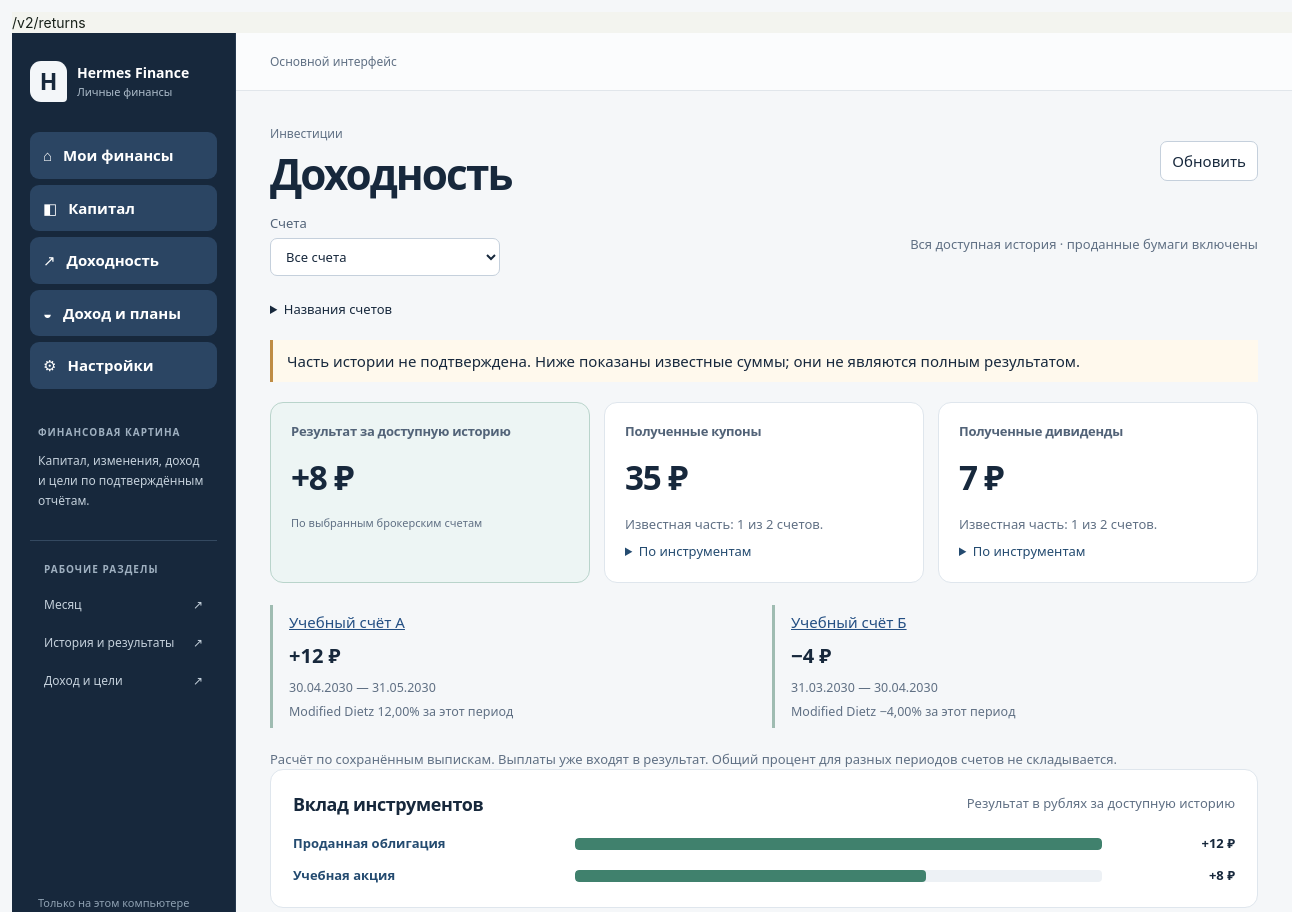
Test: refresh hides previous financial values and error never retains stale totals
Expected: the element "Результат" is shown, [270,402,590,583]
Click the button "Обновить": (1209, 161) [1160,140,1258,181]
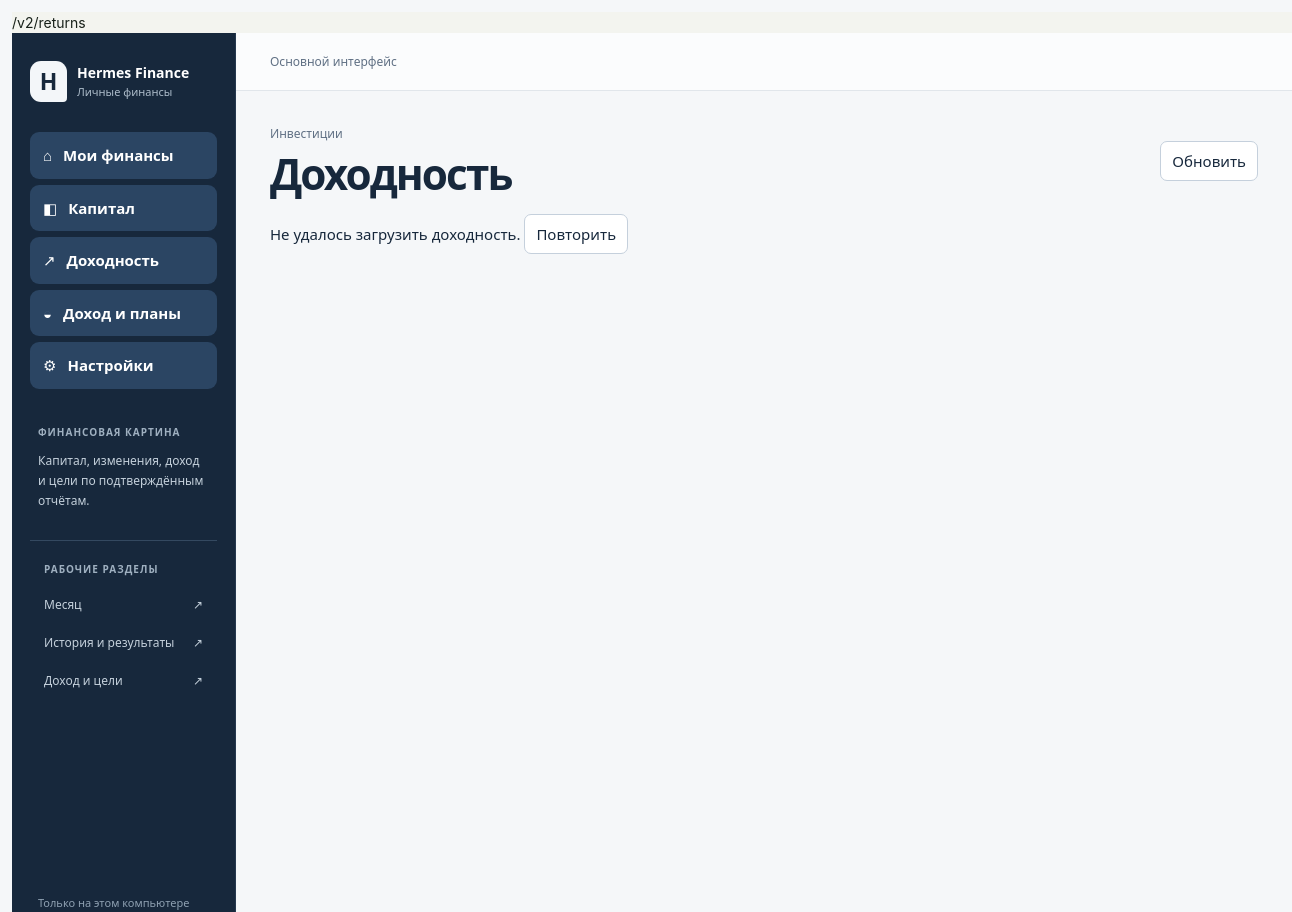
Expected: the message "Не удалось загрузить доходность. Повторить" is shown, [270,214,628,254]
